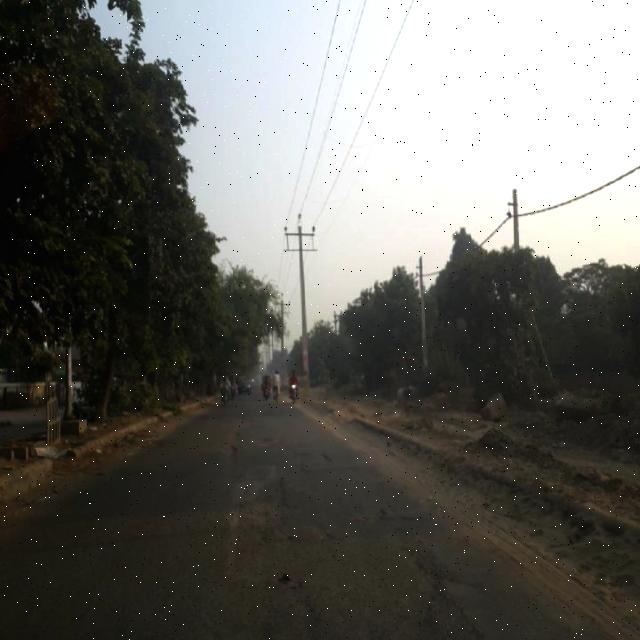D00: (404, 545, 516, 639)
D40: (205, 419, 327, 557)
